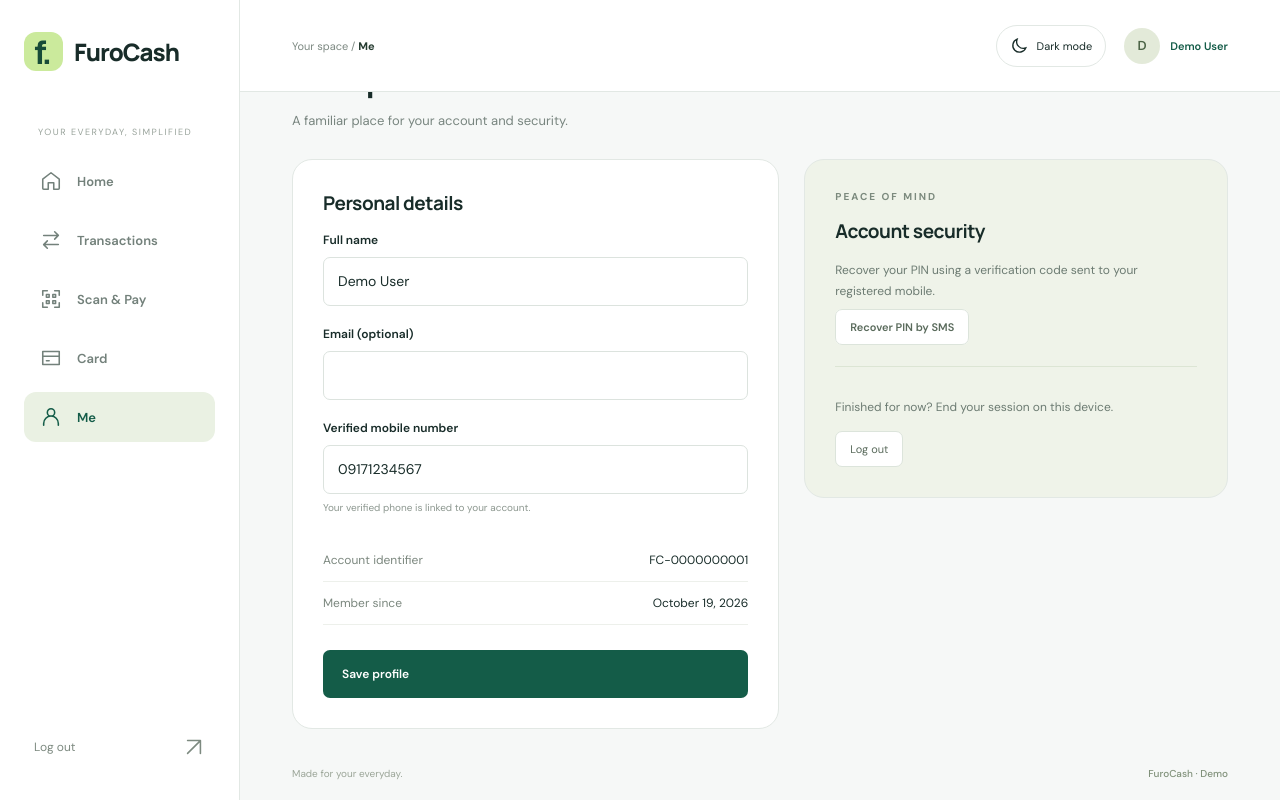
it: profile response arriving after logout cannot restore the old session
(page scrolled)
Expected: the field labelled "Full name" is shown, [323, 257, 748, 306]
Click the button "Save profile": (376, 674) [323, 650, 748, 698]
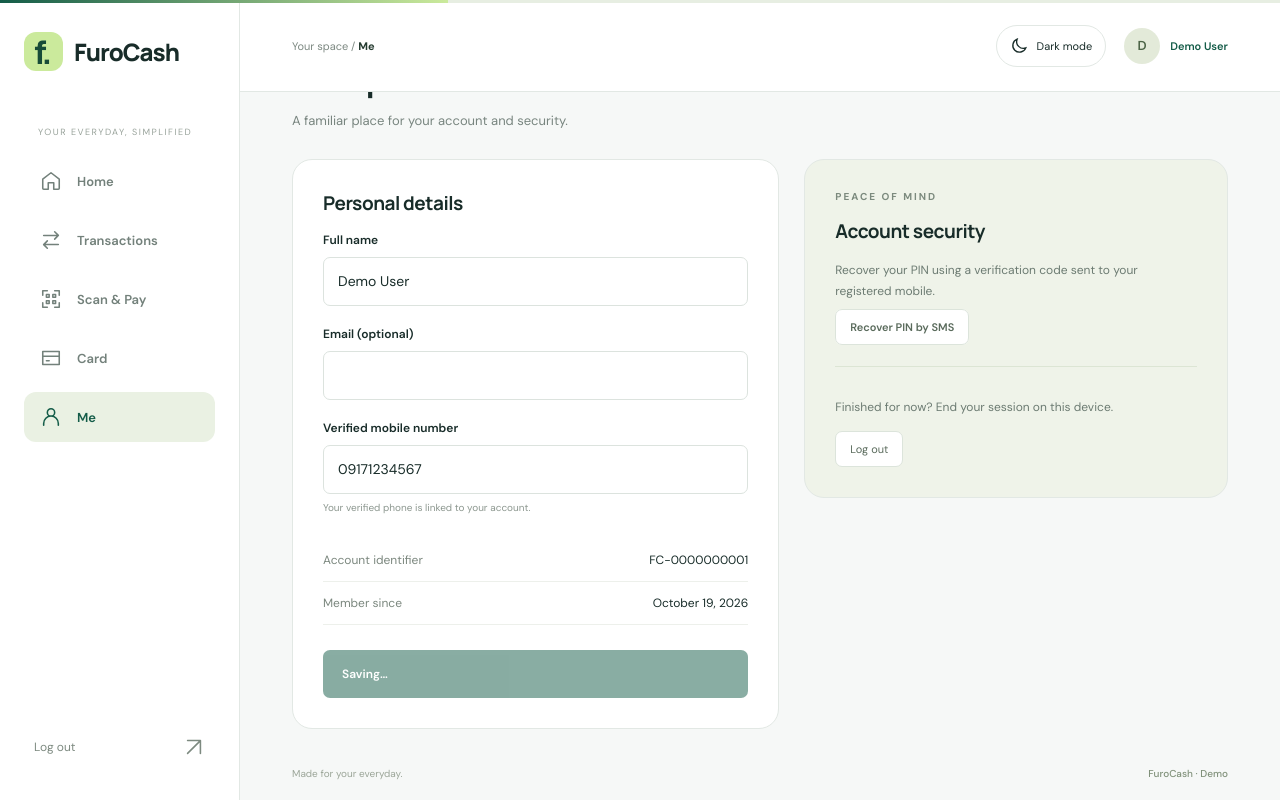
Click the 2nd button "Log out": (120, 747) [24, 726, 215, 768]
(page scrolled)
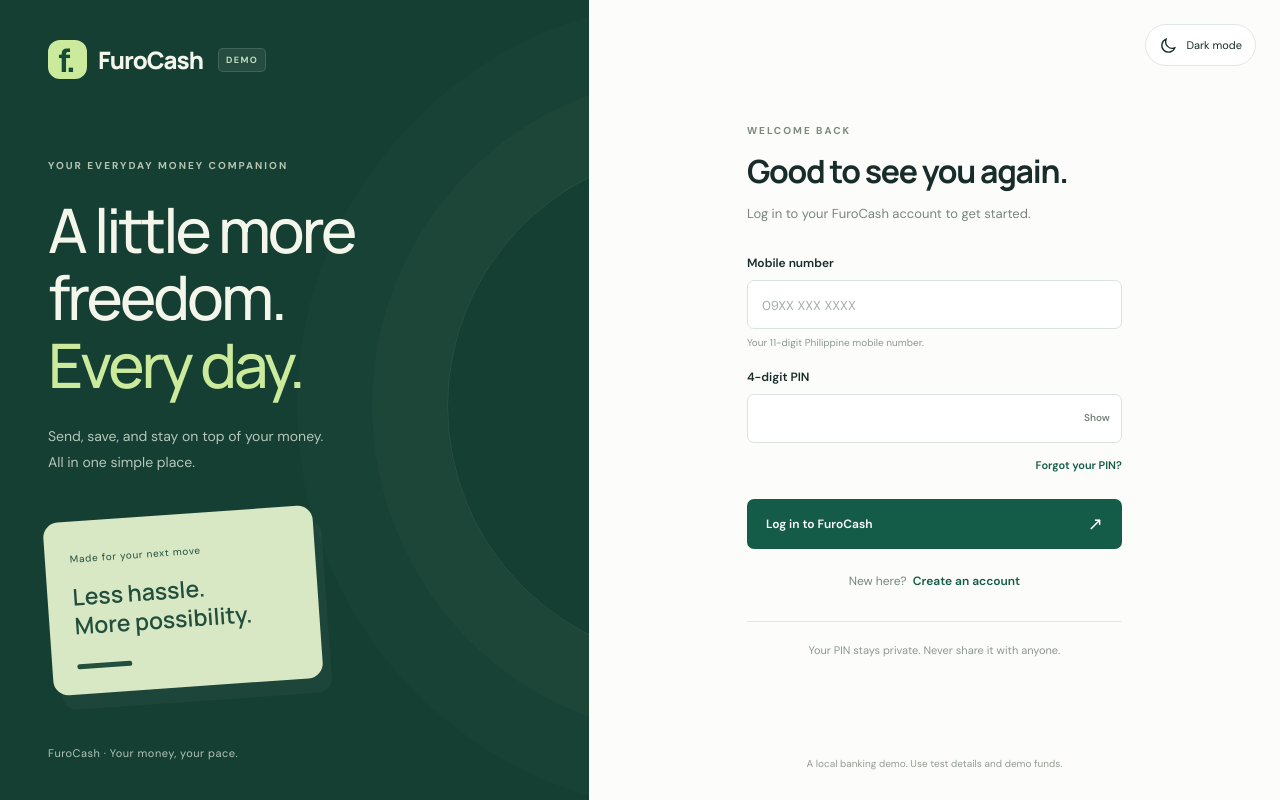
Expected: the heading "Good to see you again." is shown, [747, 152, 1122, 190]
